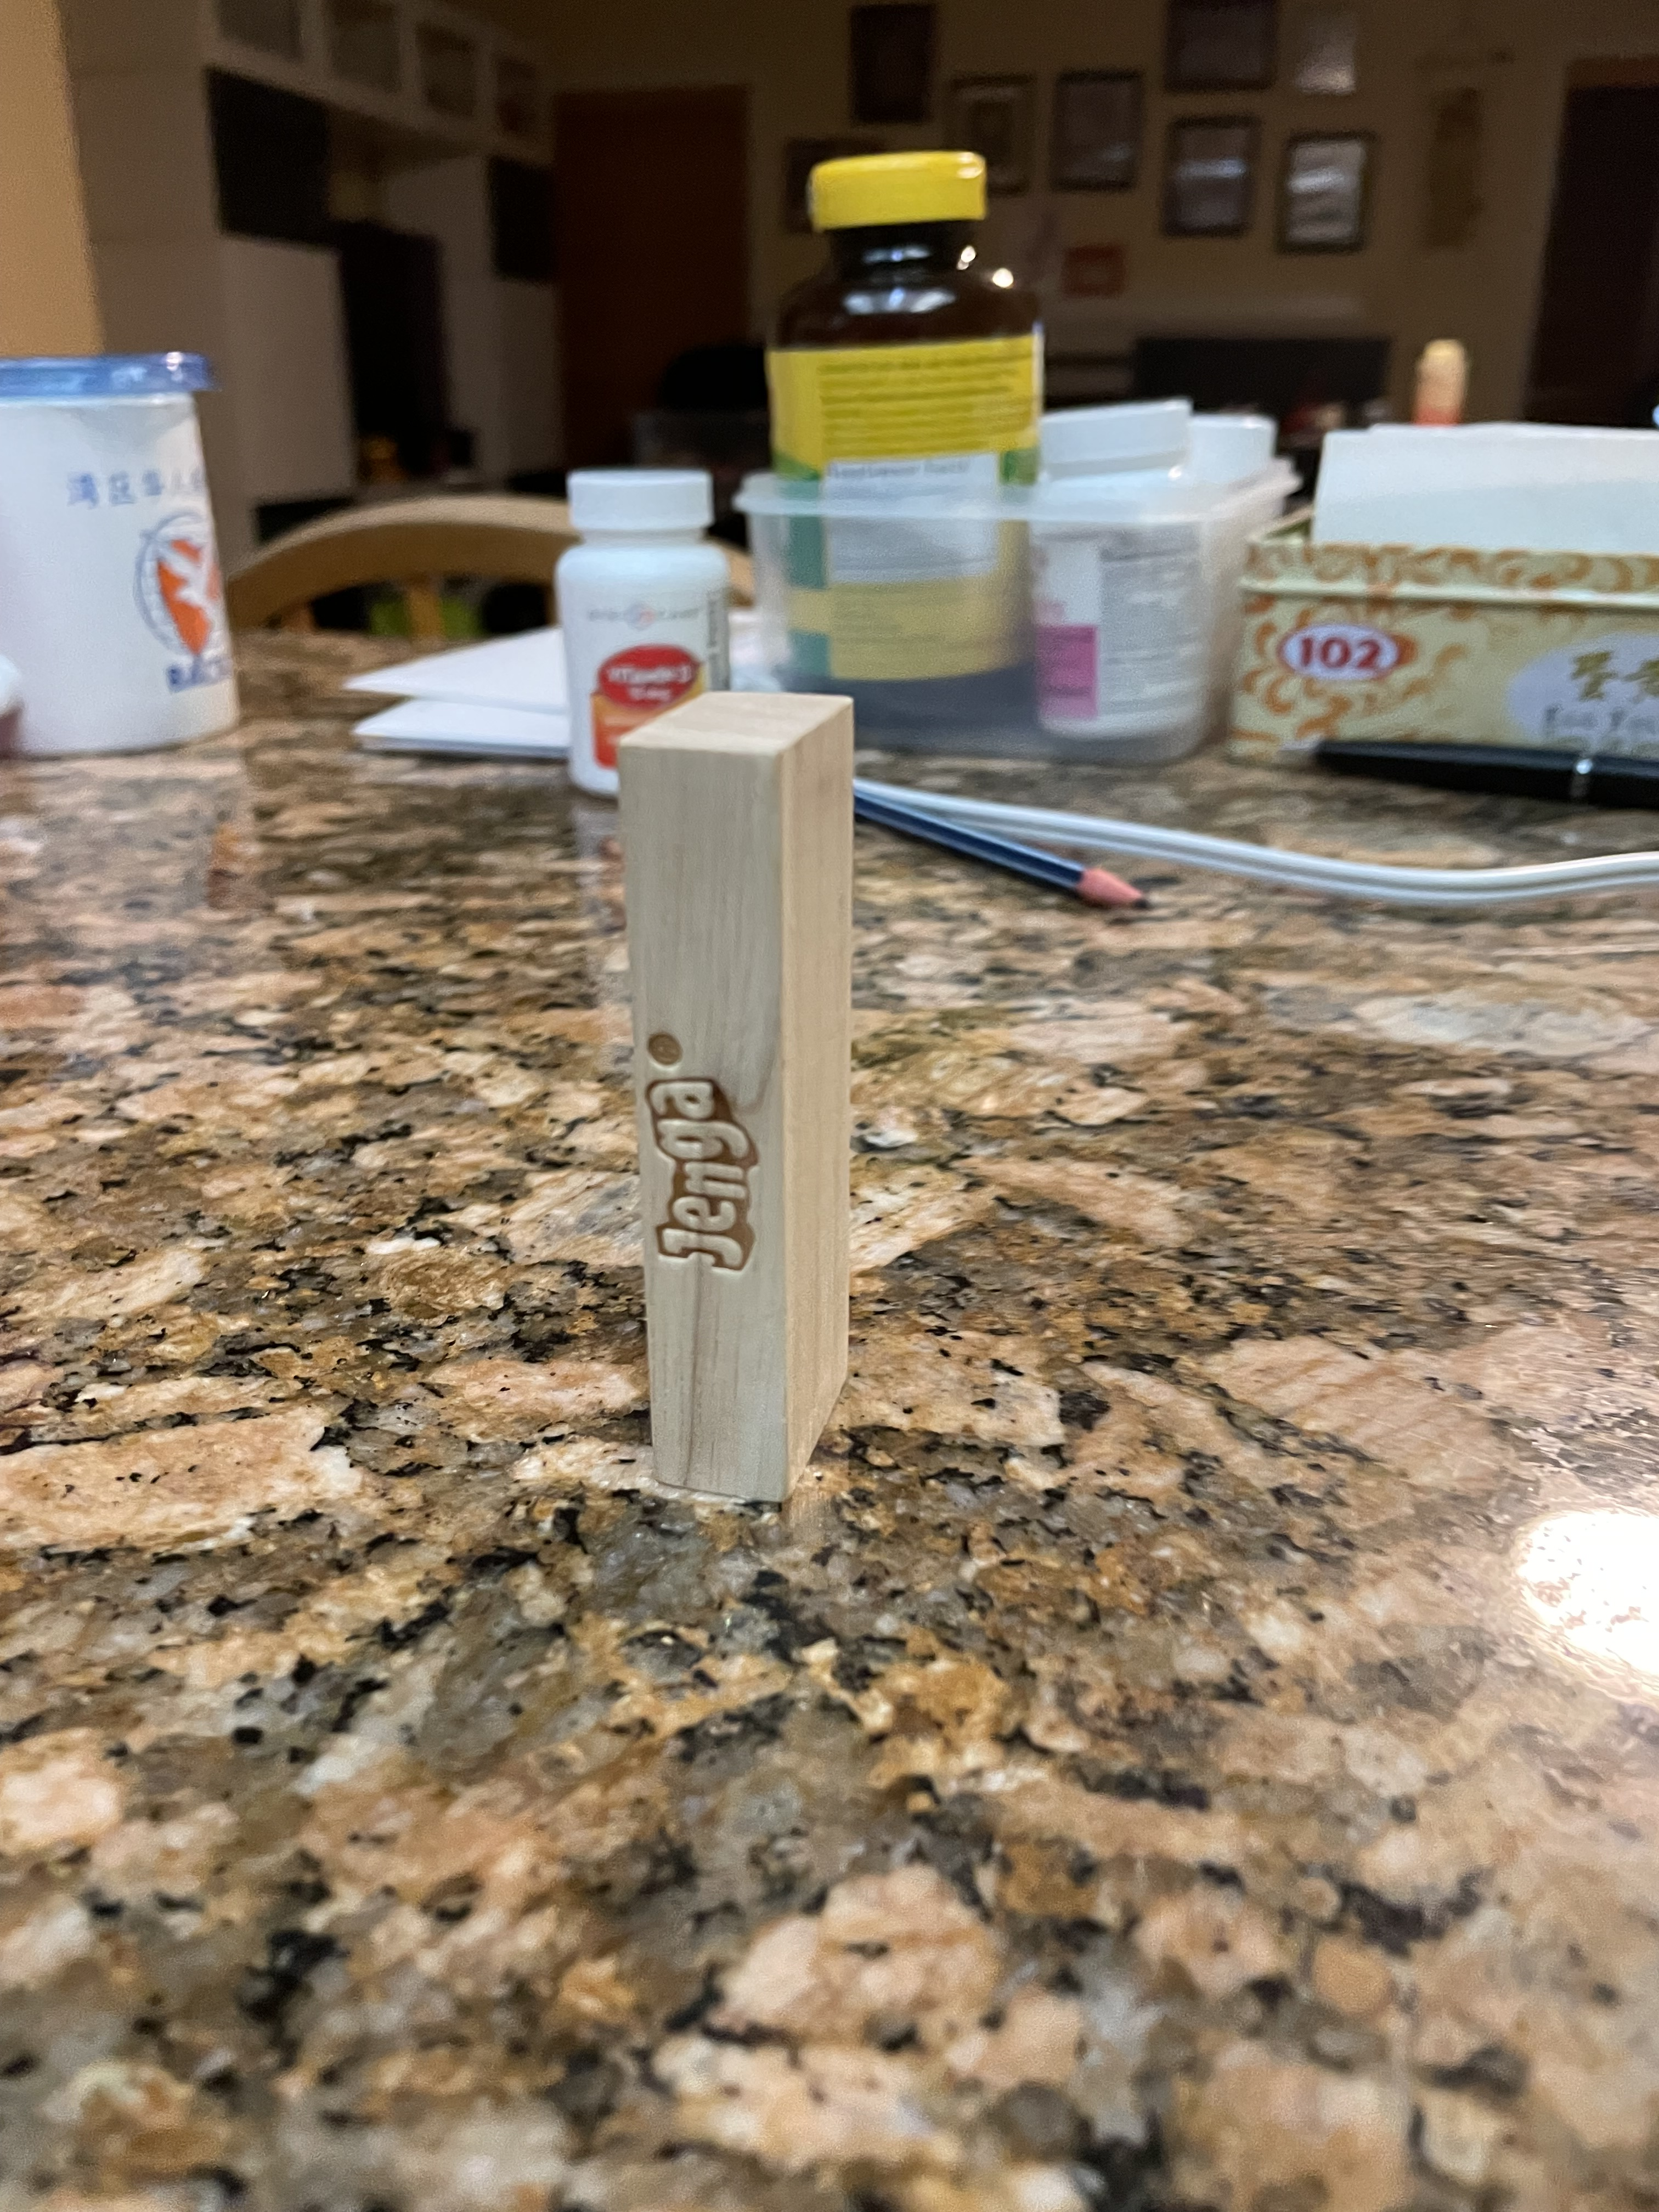jenga: (594, 676, 873, 1501)
